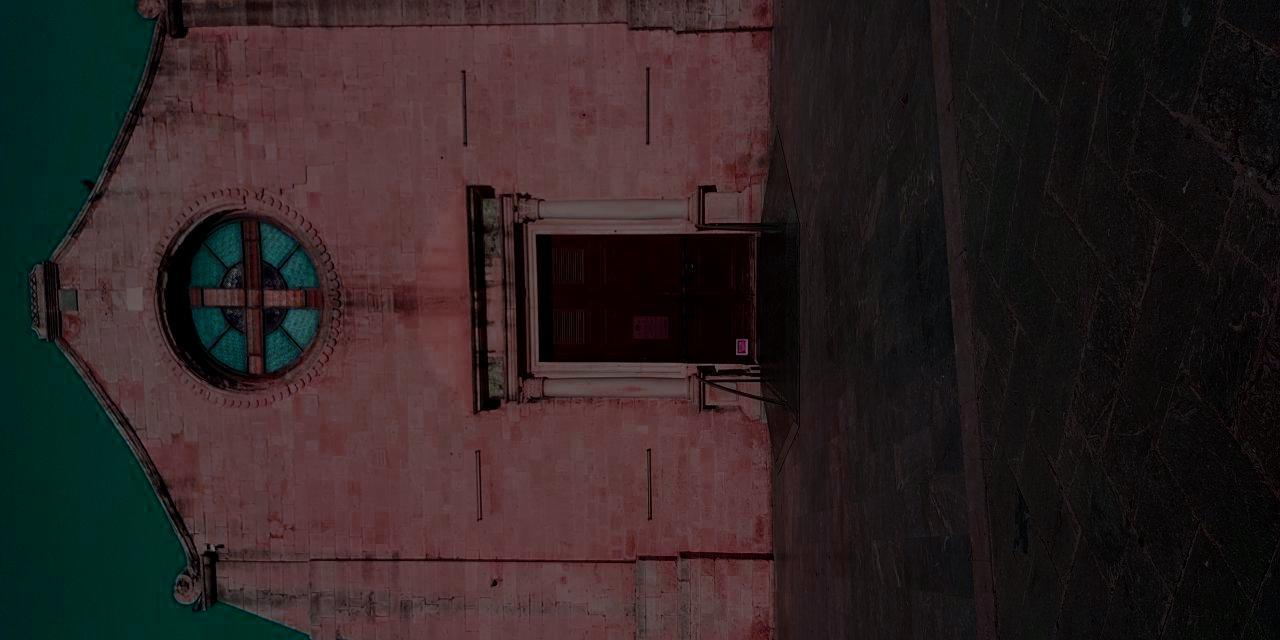Agia Aikaterini: (5, 14, 578, 640)
